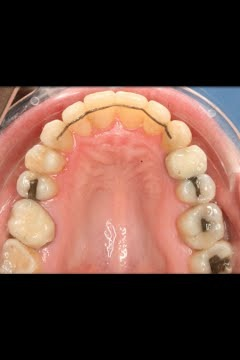UL1BC_healthy: (167, 145, 207, 176)
UL1M_decay: (178, 204, 223, 247)
UL2BC_decay: (179, 175, 215, 203)
UL2M_decay: (193, 243, 232, 273)
ULCI_decay: (116, 90, 148, 129)
ULC_decay: (165, 120, 189, 154)
ULLI_decay: (147, 100, 169, 135)
UR1BC_healthy: (25, 144, 65, 173)
UR1M_healthy: (10, 200, 55, 246)
UR2BC_decay: (16, 172, 54, 199)
UR2M_healthy: (2, 241, 34, 273)
URCI_decay: (86, 92, 115, 130)
URC_decay: (40, 120, 73, 151)
URLI_decay: (63, 102, 87, 135)
